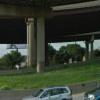Bridge: (10, 6, 93, 53)
